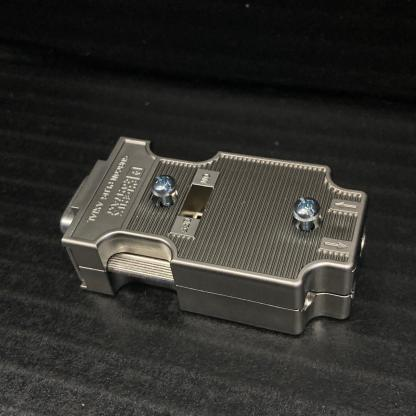SP0000010: (42, 94, 379, 354)
